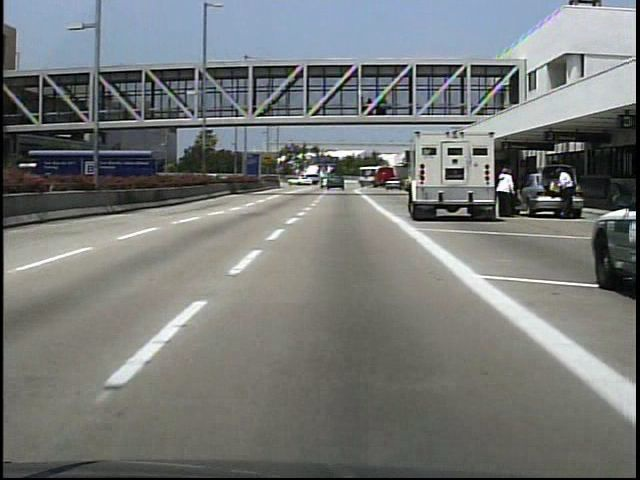person: (494, 161, 519, 221), (551, 164, 577, 219)
